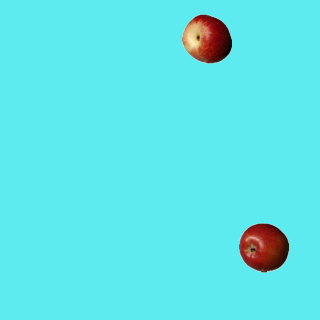Apple Braeburn: (238, 222, 288, 272)
Nectarine: (181, 13, 231, 63)
